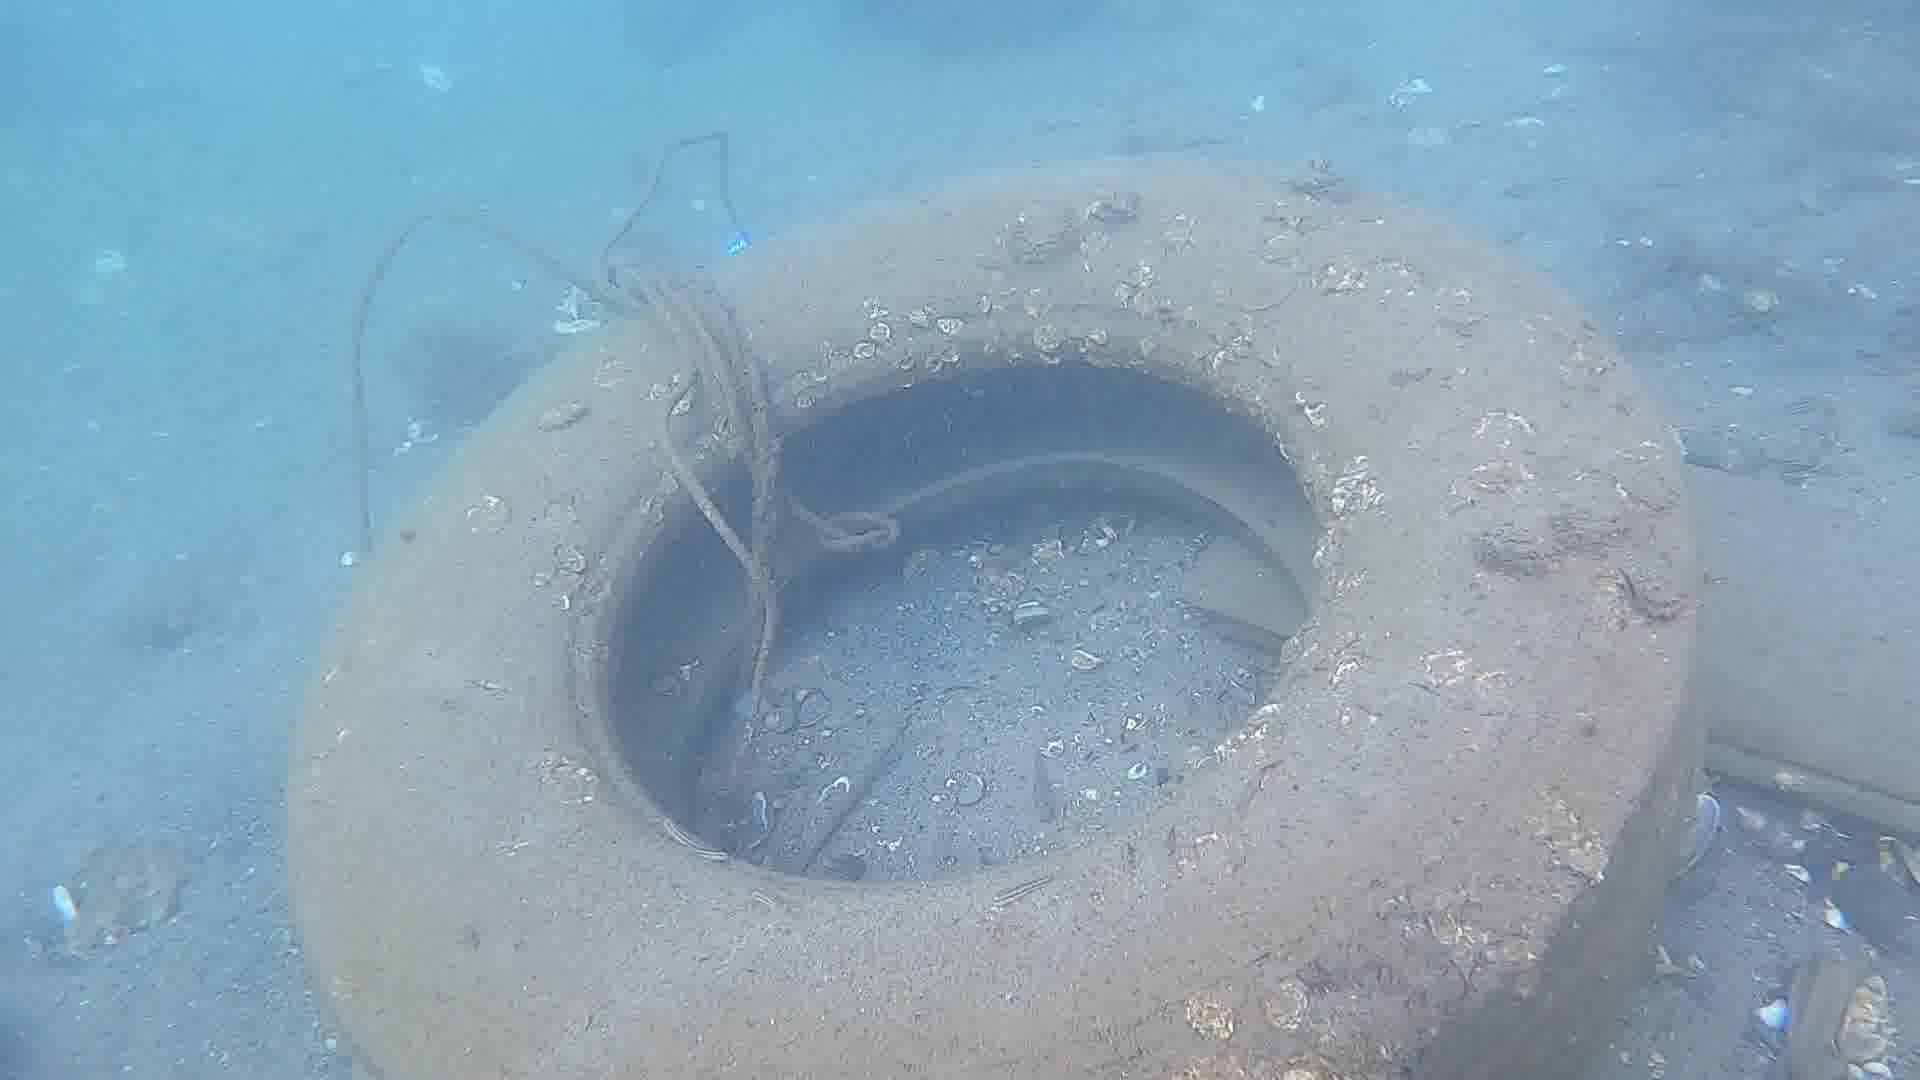bundle of ropes: (595, 129, 901, 698)
rope: (345, 210, 626, 563)
tire: (284, 160, 1704, 1080)
